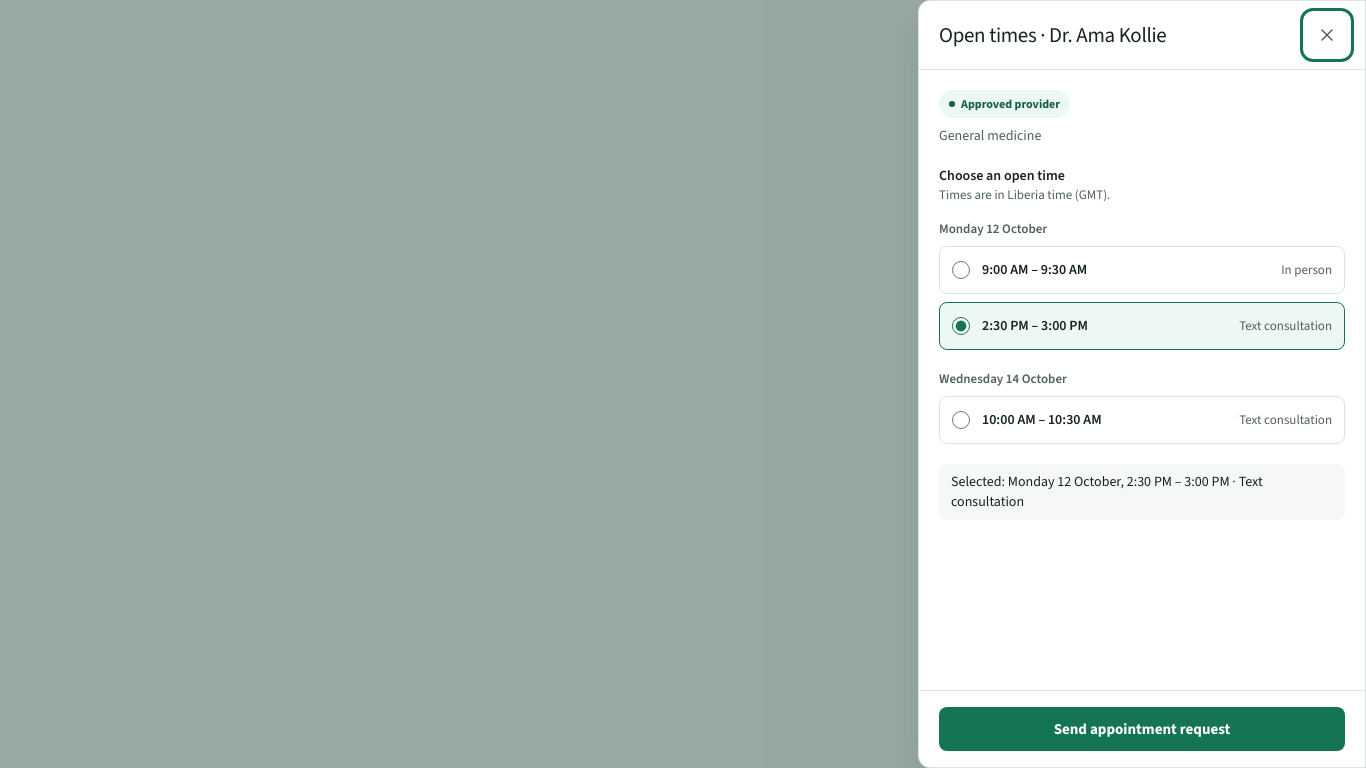
Test: AvailabilityDrawer › lets a patient send the request for the preselected time
The width and height of the screenshot is (1366, 768).
Check: the radio button labelled "2:30 PM – 3:00 PM Text consultation" is checked, box [952, 317, 970, 335]
Click the button "Send appointment request" at (1142, 729), box [939, 707, 1345, 751]
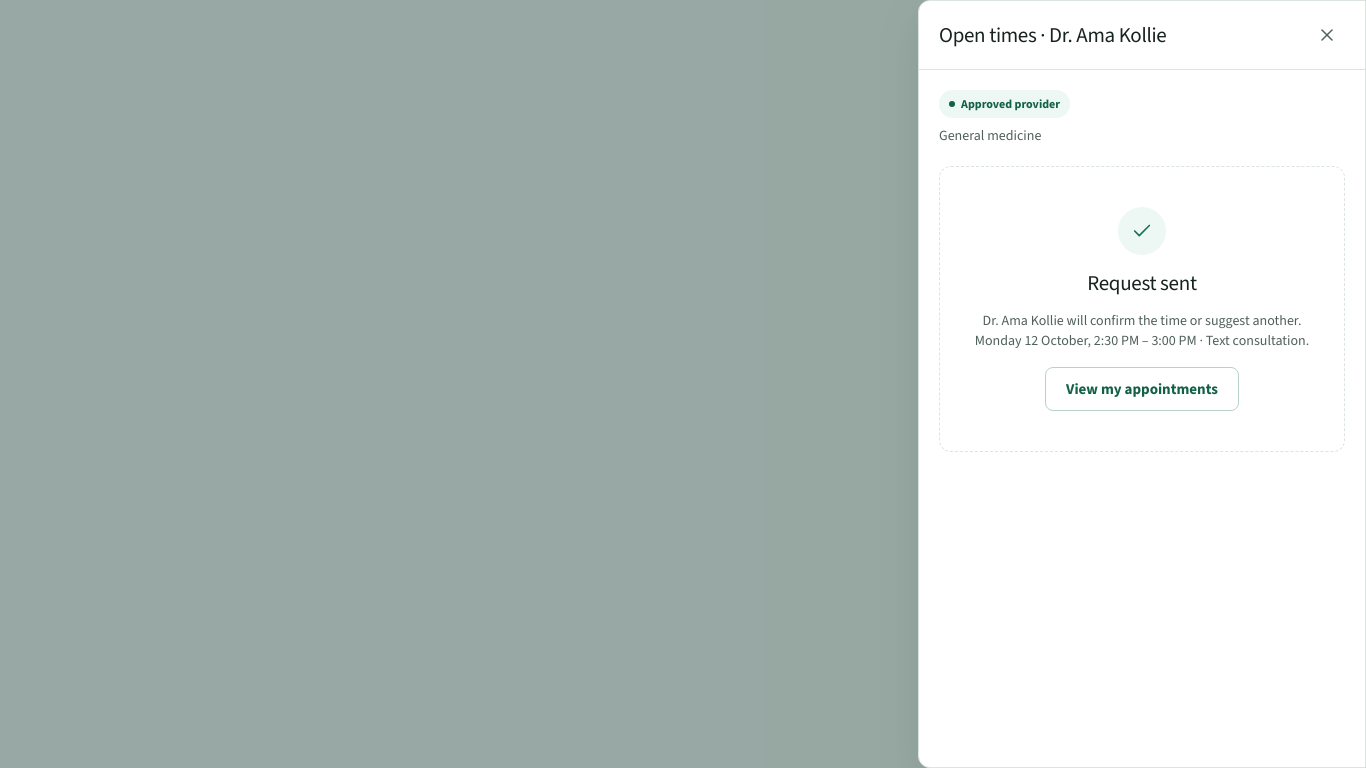
Check: the text "Request sent" is shown, box [1087, 267, 1197, 299]
